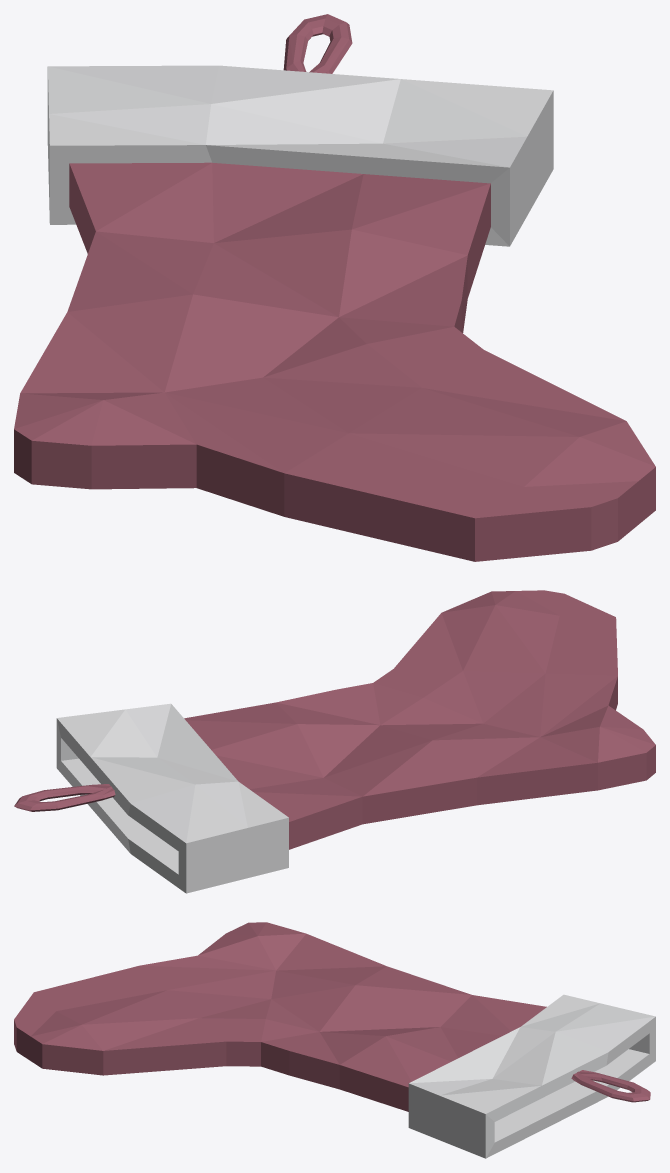
File: XmasSock.fbx
The picture shows the model from 3 angles, top to bottom: view 1: azimuth 30°, elevation 25°; view 2: azimuth 150°, elevation 25°; view 3: azimuth 270°, elevation 25°; orthographic projection. The views are drawn at different scales.
Parts seen in each view (by area): view 1: pasted__pCube1; view 2: pasted__pCube1; view 3: pasted__pCube1.
Boxes of the visible parts, x1=… form: pasted__pCube1: x1=14, y1=14, x2=655, y2=561; pasted__pCube1: x1=14, y1=590, x2=655, y2=893; pasted__pCube1: x1=14, y1=922, x2=655, y2=1158.
Size of the model in its own units: 1.02 by 0.118 by 1.38.
